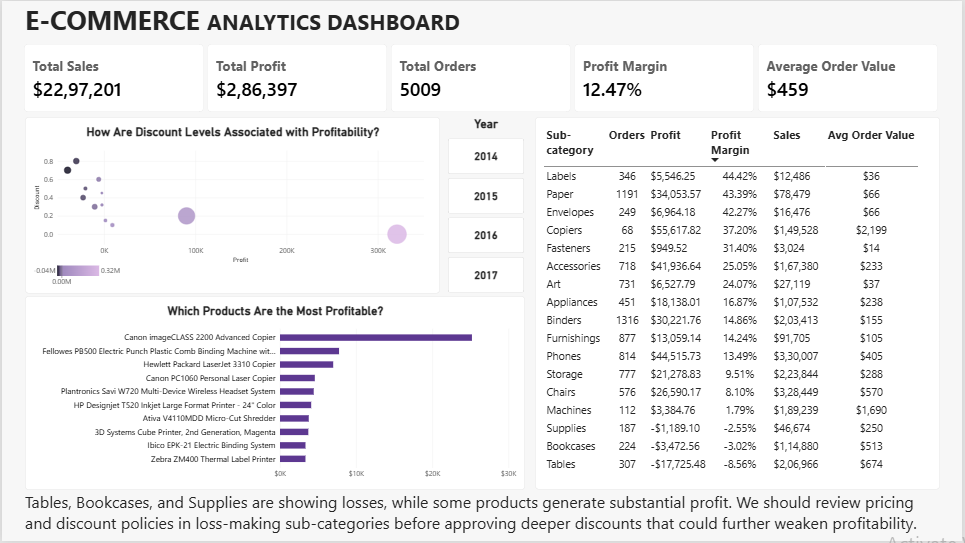

Layout of this report page (visuals, bound fields, positions):
{"tool":"powerbi","page":{"name":"Product & Discount","canvas":[1920,1080],"ordinal":1},"visuals":[{"type":"clusteredBarChart","title":"Which Products Are the Most Profitable?","fields":{"Y":["_Measures.Total Profit"],"Category":["product_dim.product_name"]},"box":[45,590,1000,387.5],"z":0},{"type":"tableEx","fields":{"Values":["product_dim.sub-category","_Measures.Total Orders","_Measures.Total Profit","_Measures.Profit Margin","_Measures.Total Sales","_Measures.Average Order Value"]},"box":[1065,232.5,810,745],"z":1000},{"type":"advancedSlicerVisual","fields":{"Values":["date_dim.Year"]},"box":[892.5,232.5,152.5,352.5],"z":2000},{"type":"scatterChart","title":"How Are Discount Levels Associated with Profitability?","fields":{"X":["_Measures.Total Profit"],"Y":["fact_table.discount"],"Size":["CountNonNull(fact_table.discount)"]},"box":[45,232.5,830,352.5],"z":3000},{"type":"cardVisual","fields":{"Data":["_Measures.Total Sales","_Measures.Total Profit","_Measures.Total Orders","_Measures.Profit Margin","_Measures.Average Order Value"]},"box":[44.8,85,1830.4,136.6],"z":4000},{"type":"textbox","box":[45,0,915,85],"z":5000},{"type":"textbox","box":[45,977.5,1830,97.5],"z":5001}]}

Visuals, with their boxes in screenshot pixels (x1, y1, x2, y2), scaled from the page's 1920x1080 canvas onto the 965x543 screenshot:
"Which Products Are the Most Profitable?" clusteredBarChart: 23, 297, 525, 491
tableEx - product_dim.sub-category x _Measures.Total Orders: 535, 117, 942, 491
advancedSlicerVisual - date_dim.Year: 449, 117, 525, 294
"How Are Discount Levels Associated with Profitability?" scatterChart: 23, 117, 440, 294
cardVisual - _Measures.Total Sales x _Measures.Total Profit: 23, 43, 942, 111
textbox: 23, 0, 482, 43
textbox: 23, 491, 942, 540
